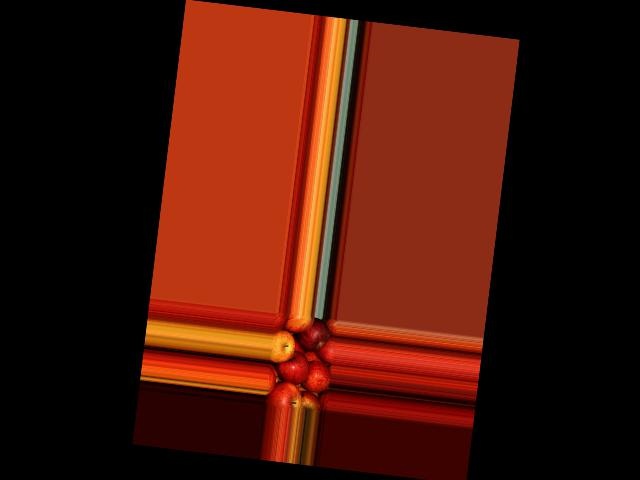apple: (299, 357, 331, 394)
